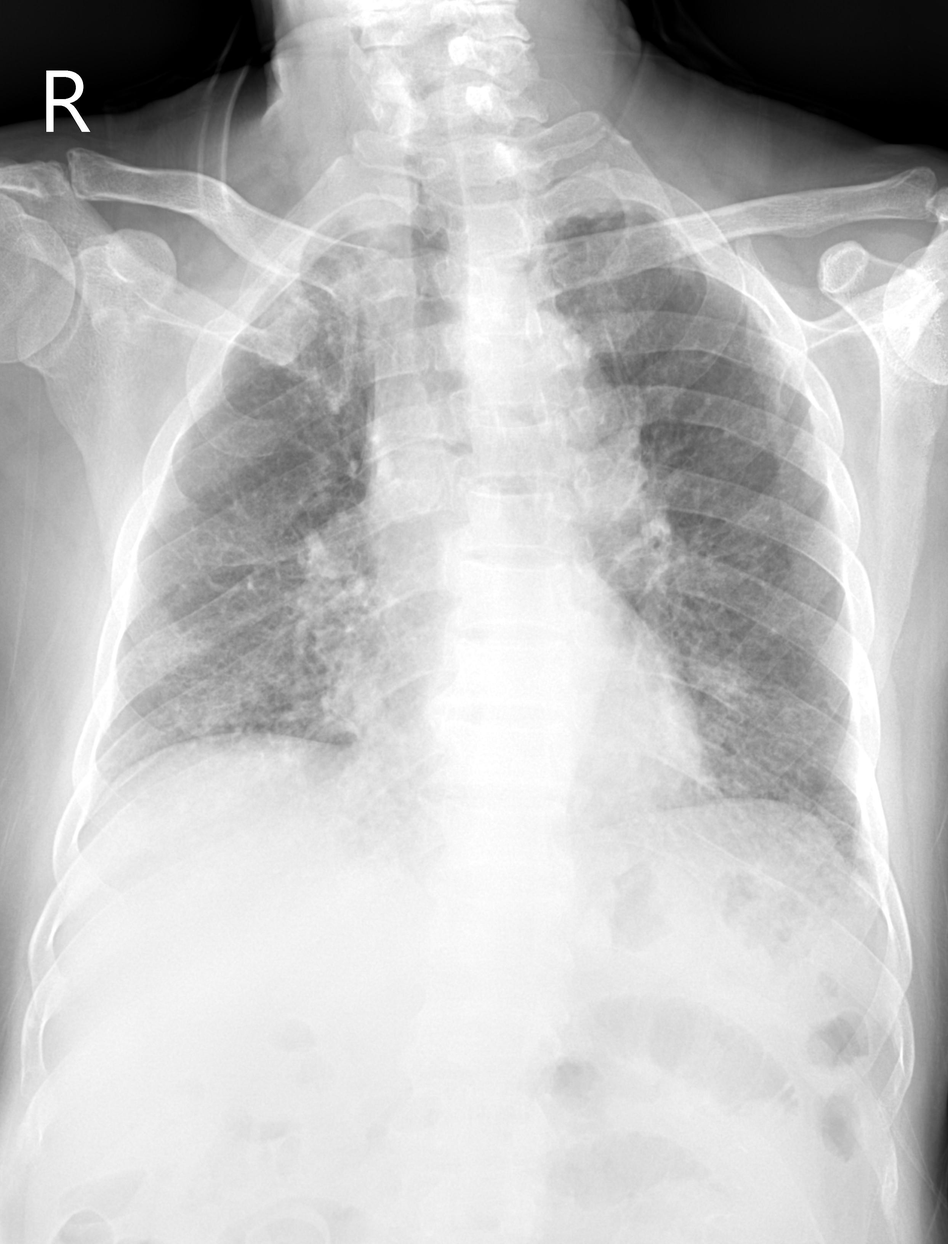Aortic enlargement: (480, 313, 633, 509)
Pulmonary fibrosis: (243, 202, 394, 407)
